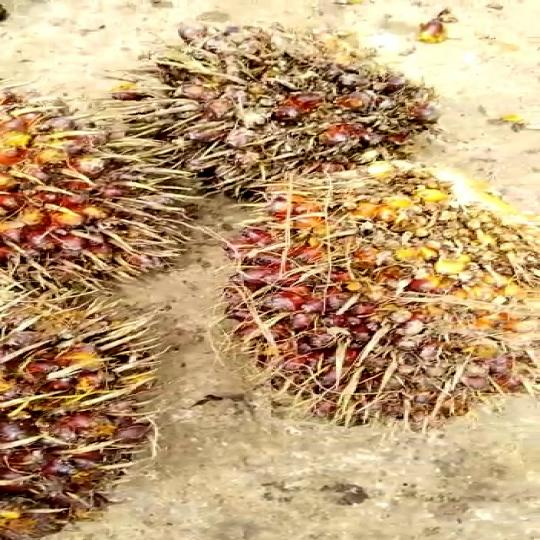masak: (238, 160, 540, 424), (130, 26, 466, 178), (0, 302, 191, 540), (0, 97, 198, 298)
